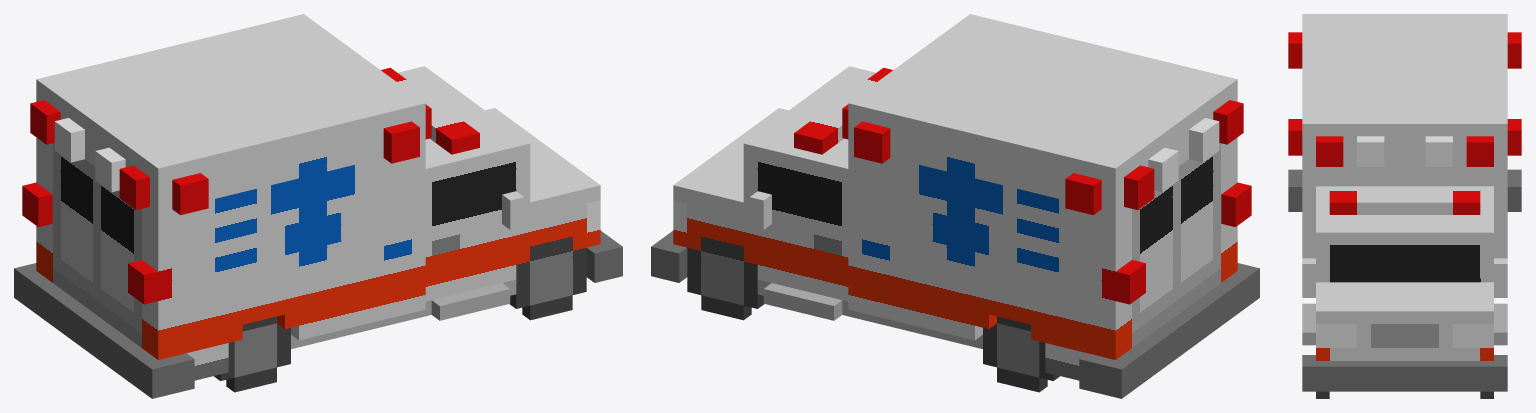
File: veh_ambulance.fbx
The picture shows the model from 3 angles, left to right: view 1: azimuth 30°, elevation 25°; view 2: azimuth 150°, elevation 25°; view 3: azimuth 270°, elevation 25°; orthographic projection. The views are drawn at different scales.
Visible parts, largest first — view 1: veh_ambulance; view 2: veh_ambulance; view 3: veh_ambulance.
Boxes of the visible parts, x1,y1,x2,y2 form: veh_ambulance: (14,14,622,398); veh_ambulance: (651,14,1259,398); veh_ambulance: (1288,14,1521,398).
Size of the model in its own units: 3.4 by 1.7 by 1.7.
1 material, 1 textured.
